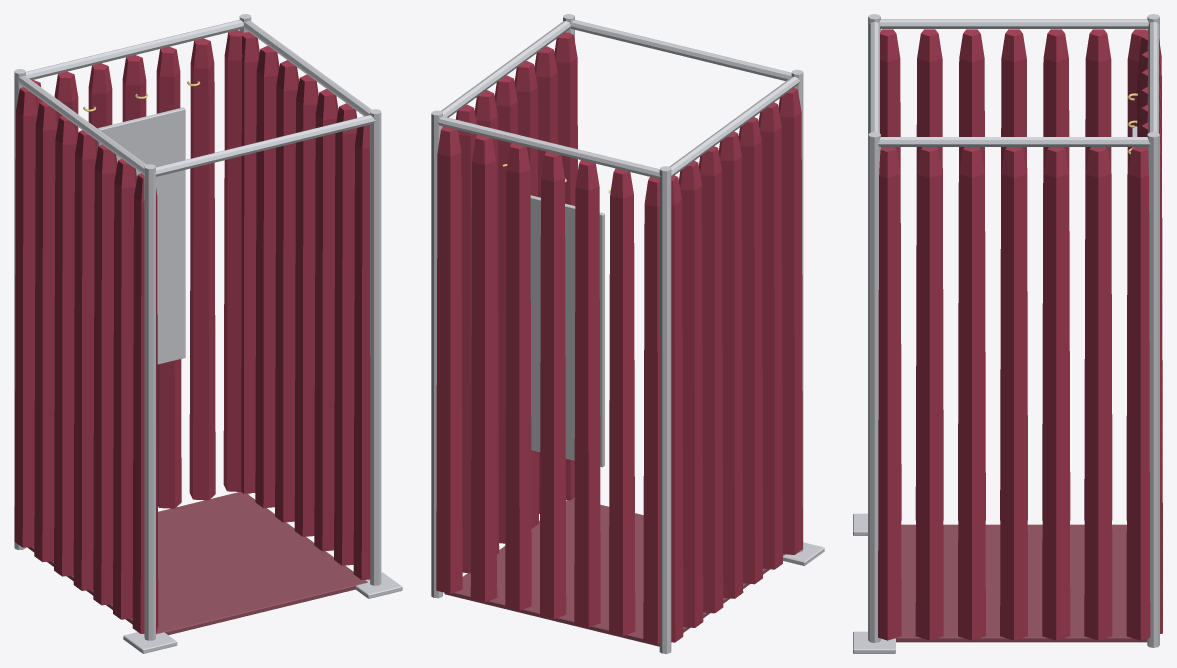
File: theatre-stage-and-backstage-quick-change-booth-frame-9bc2af73__35911.glb
3 renders of one model, left to right at view 1: azimuth 30°, elevation 25°; view 2: azimuth 150°, elevation 25°; view 3: azimuth 270°, elevation 25°, orthographic. The views are drawn at different scales.
Visible parts, largest first — view 1: quick-change-booth-frame; view 2: quick-change-booth-frame; view 3: quick-change-booth-frame.
Boxes of the visible parts, x1,y1,x2,y2 form: quick-change-booth-frame: [14, 14, 402, 653]; quick-change-booth-frame: [431, 14, 824, 653]; quick-change-booth-frame: [853, 14, 1162, 653].
Bounding box in the file's own units: 1.2 × 2.1 × 1.15.
